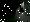person: (17, 4, 24, 17)
